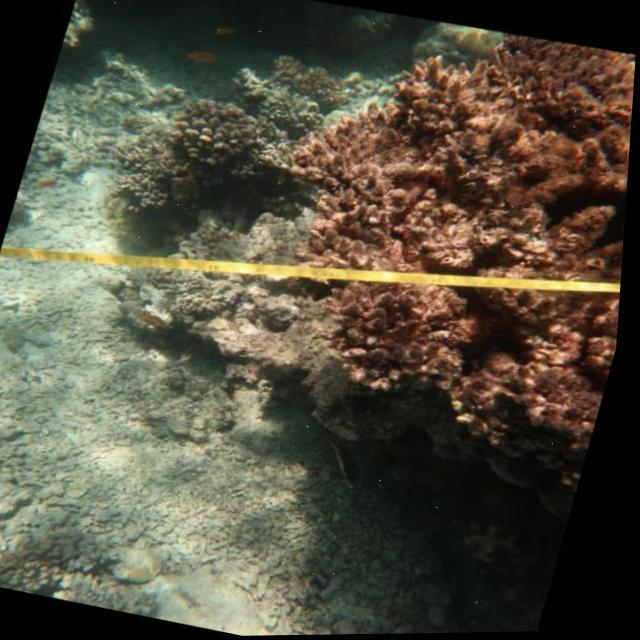Healthy Coral: (222, 0, 640, 470), (122, 74, 282, 212)
